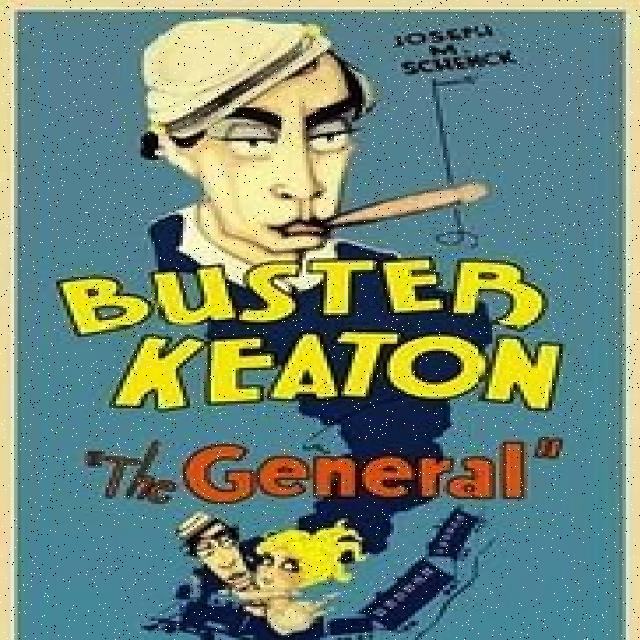movie-judul: (46, 258, 590, 510)
picture: (12, 11, 623, 640)
